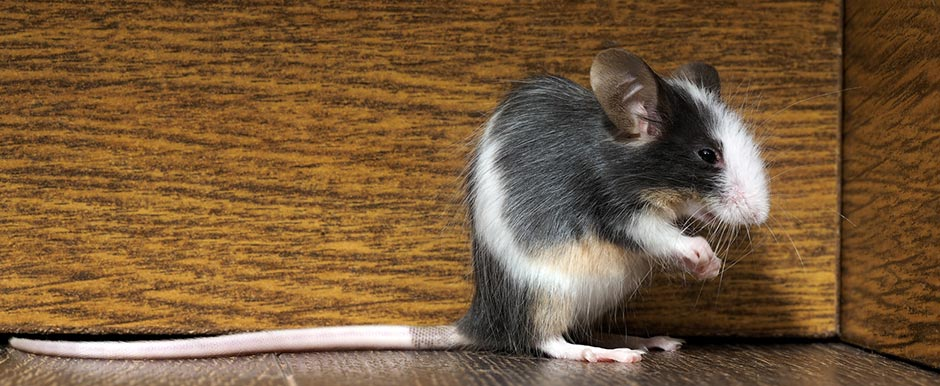rat: (393, 32, 802, 382)
